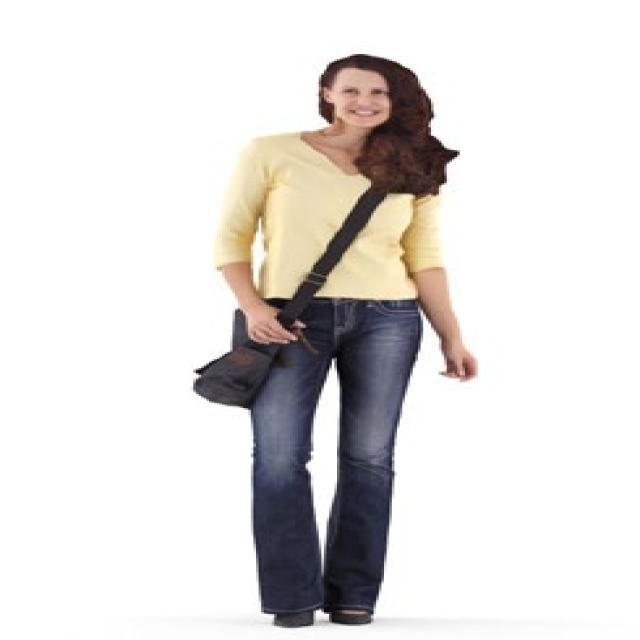standing: (208, 51, 481, 630)
